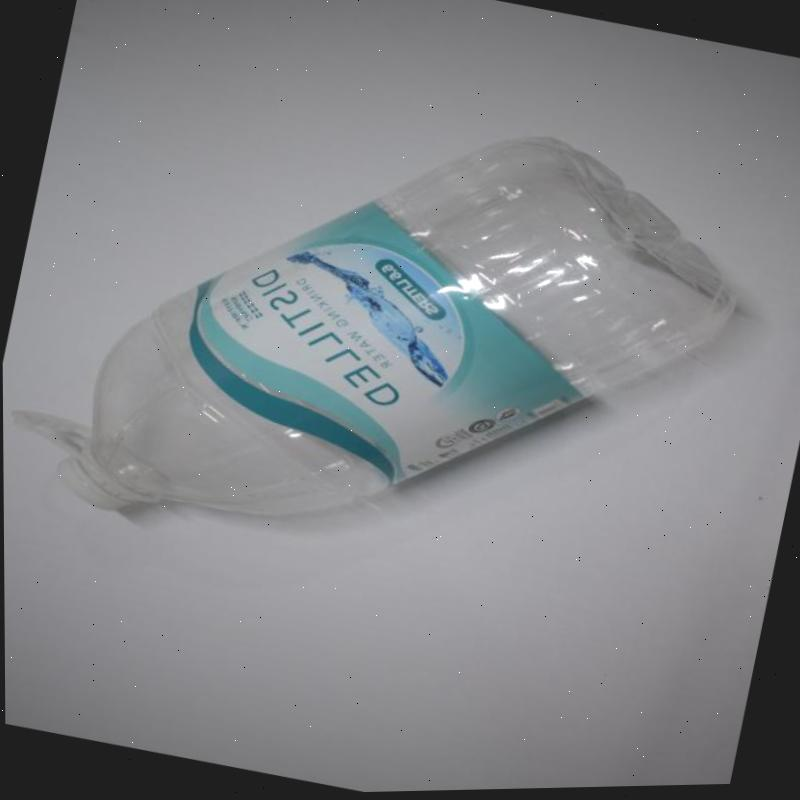botella: (45, 47, 766, 637)
